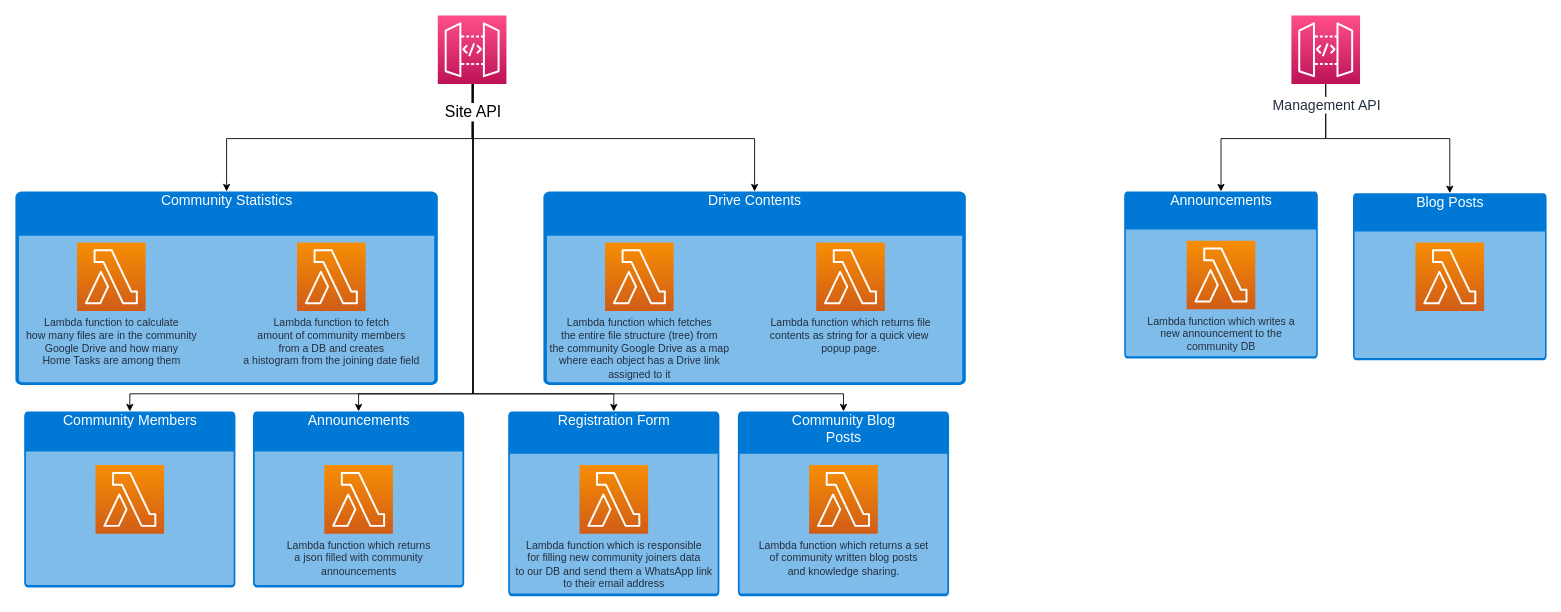
This 1561x612 diagram has some shape labels left out. The shapes that lost their labels are listed below. From the top down, each one's centre as x and y in pixels, then its label:
point (1449, 276): Lambda function which uploads a new blog post to the DB
point (129, 499): Lambda function which returns all user fields from a DB as a json object.
